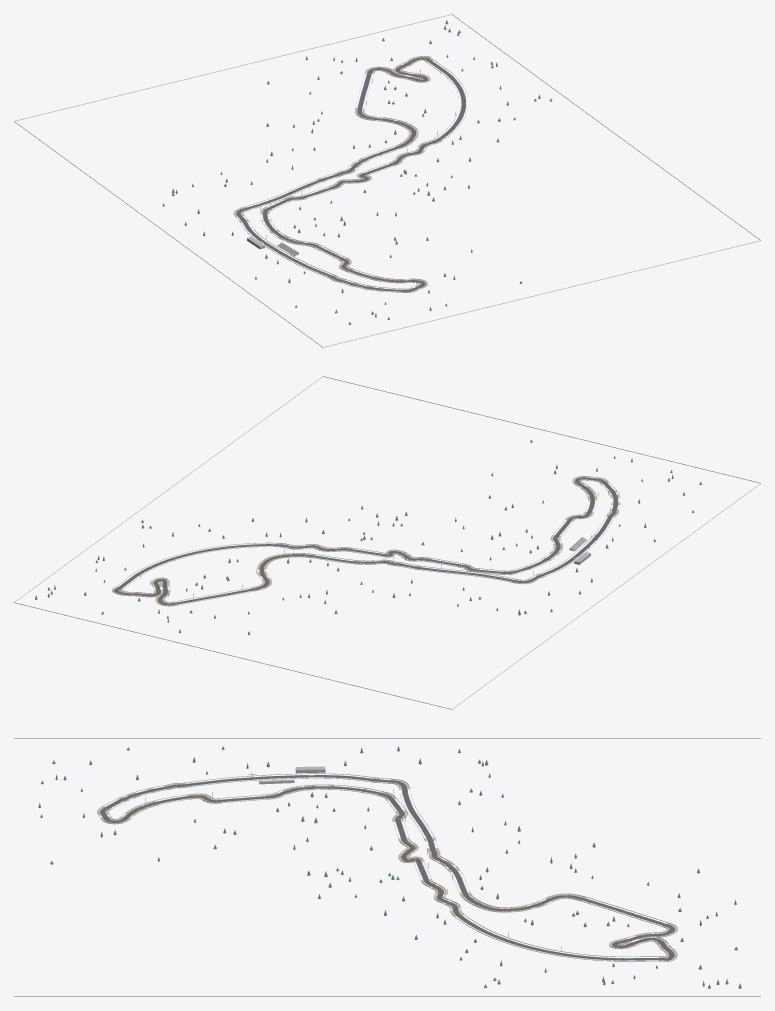
The model's file is monaco.glb.
3 renders of one model, top to bottom at view 1: azimuth 30°, elevation 25°; view 2: azimuth 150°, elevation 25°; view 3: azimuth 270°, elevation 25°, orthographic. The views are drawn at different scales.
Visible parts, largest first — view 1: monaco.tarmac, monaco.barrier, monaco.gravel, monaco.foliage; view 2: monaco.barrier, monaco.tarmac, monaco.gravel, monaco.foliage; view 3: monaco.tarmac, monaco.barrier, monaco.gravel, monaco.foliage.
Part boxes in pixels (box(x1,y1,x2,y2)): monaco.tarmac: box(236, 57, 466, 291); monaco.barrier: box(14, 14, 760, 347); monaco.gravel: box(233, 56, 442, 292); monaco.foliage: box(162, 20, 552, 324); monaco.barrier: box(14, 376, 760, 709); monaco.tarmac: box(114, 477, 618, 605); monaco.gravel: box(111, 476, 620, 606); monaco.foliage: box(35, 439, 702, 634); monaco.tarmac: box(100, 775, 675, 960); monaco.barrier: box(14, 738, 760, 996); monaco.gravel: box(97, 777, 677, 961); monaco.foliage: box(38, 746, 741, 988).
Bounding box in the file's own units: 1033 × 12.5 × 1263.
